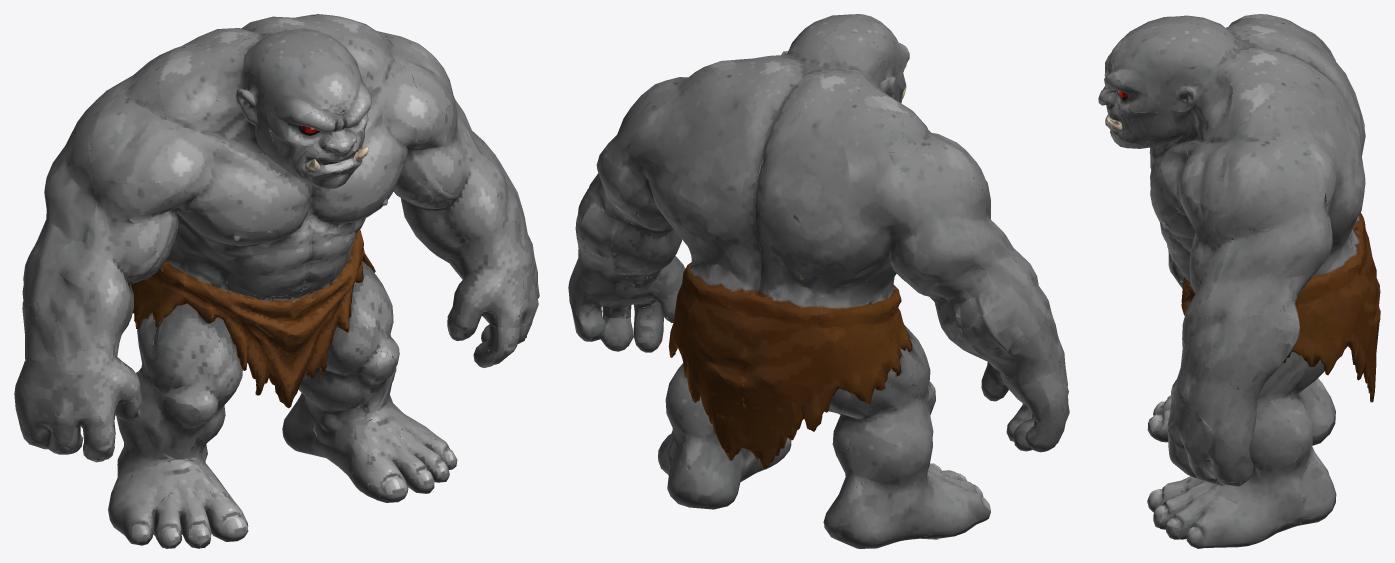
The model's file is troll.glb.
3 views of the same model, side by side, from view 1: azimuth 30°, elevation 25°; view 2: azimuth 150°, elevation 25°; view 3: azimuth 270°, elevation 25° (orthographic). The views are drawn at different scales.
Visible parts, largest first — view 1: Mesh_0.001; view 2: Mesh_0.001; view 3: Mesh_0.001.
Boxes of the visible parts, x1,y1,x2,y2 form: Mesh_0.001: (14,14,539,548); Mesh_0.001: (568,14,1069,548); Mesh_0.001: (1098,14,1380,548).
Size of the model in its own units: 1.9 by 1.67 by 0.9452.
1 material, 1 textured.
